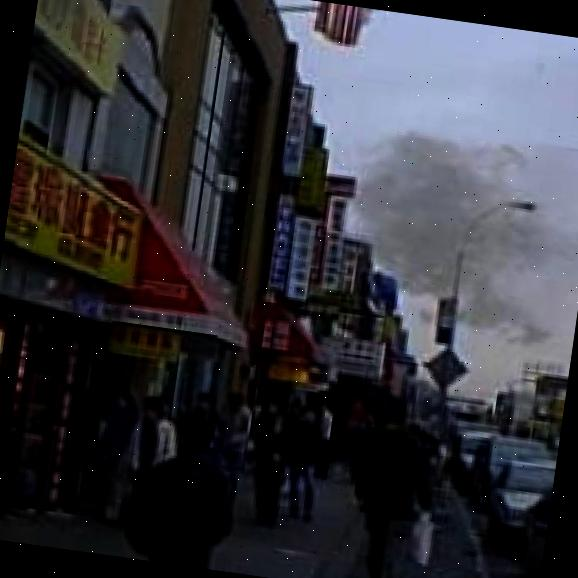smoke: (308, 115, 578, 358)
